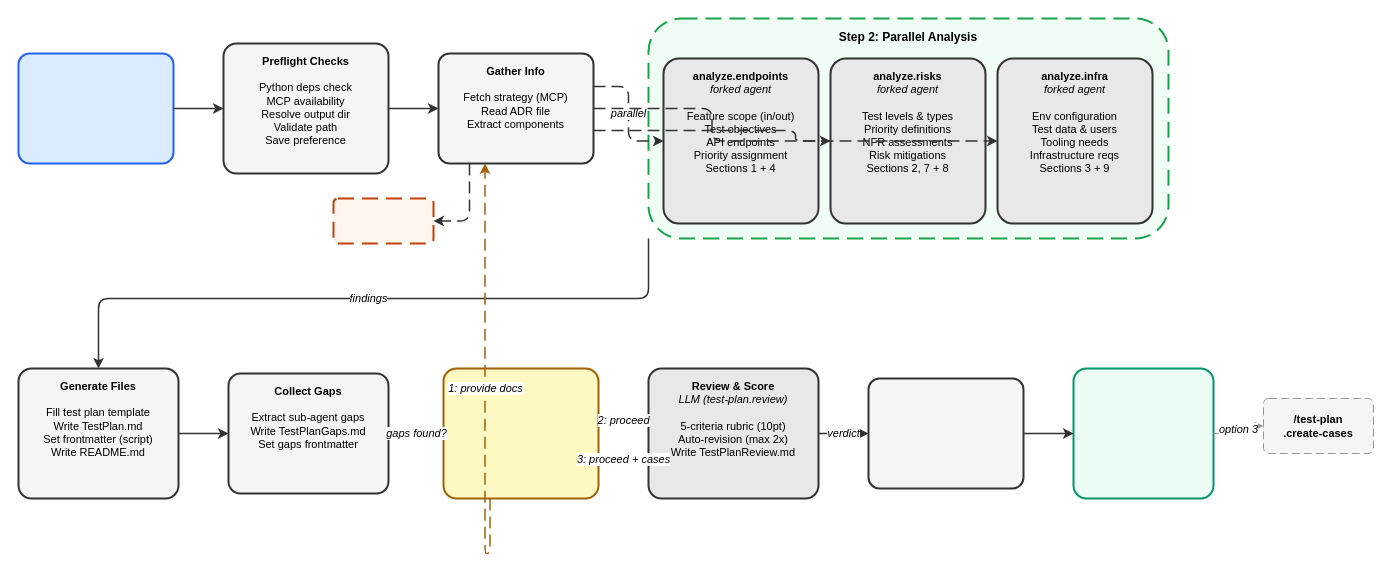
Image size: 1391x579. Some labels were removed from this diagram. Here are the shapes that lost their labels. From the top down, the centre of each, then its label:
point 95,108: /test-plan.create JIRA_KEY [ADR_FILE_PATH] Auto-detect / interactive
point 383,220: Jira MCP
point 520,433: User Decision 1. Provide more docs 2. Proceed to review 3. Proceed + cases
point 945,433: Auto-Fix Consistency fixes Feature-specific priorities Never invent for TBDs
point 1143,433: Output TestPlan.md TestPlanReview.md TestPlanGaps.md README.md
